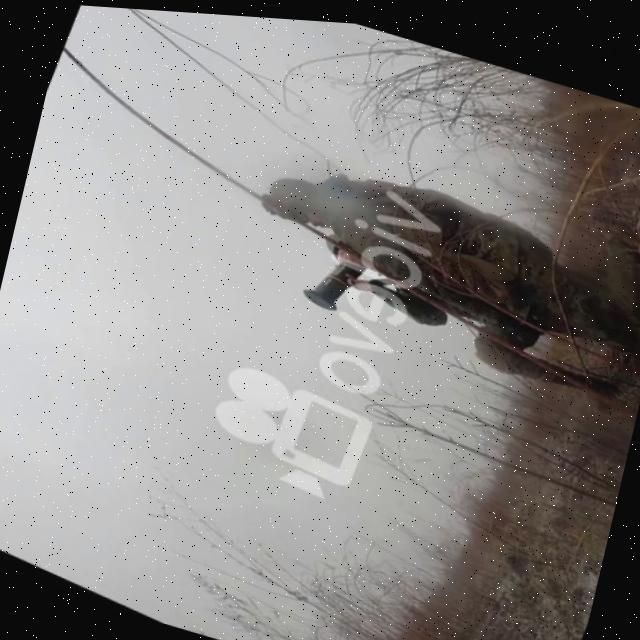rocket: (292, 239, 380, 323)
